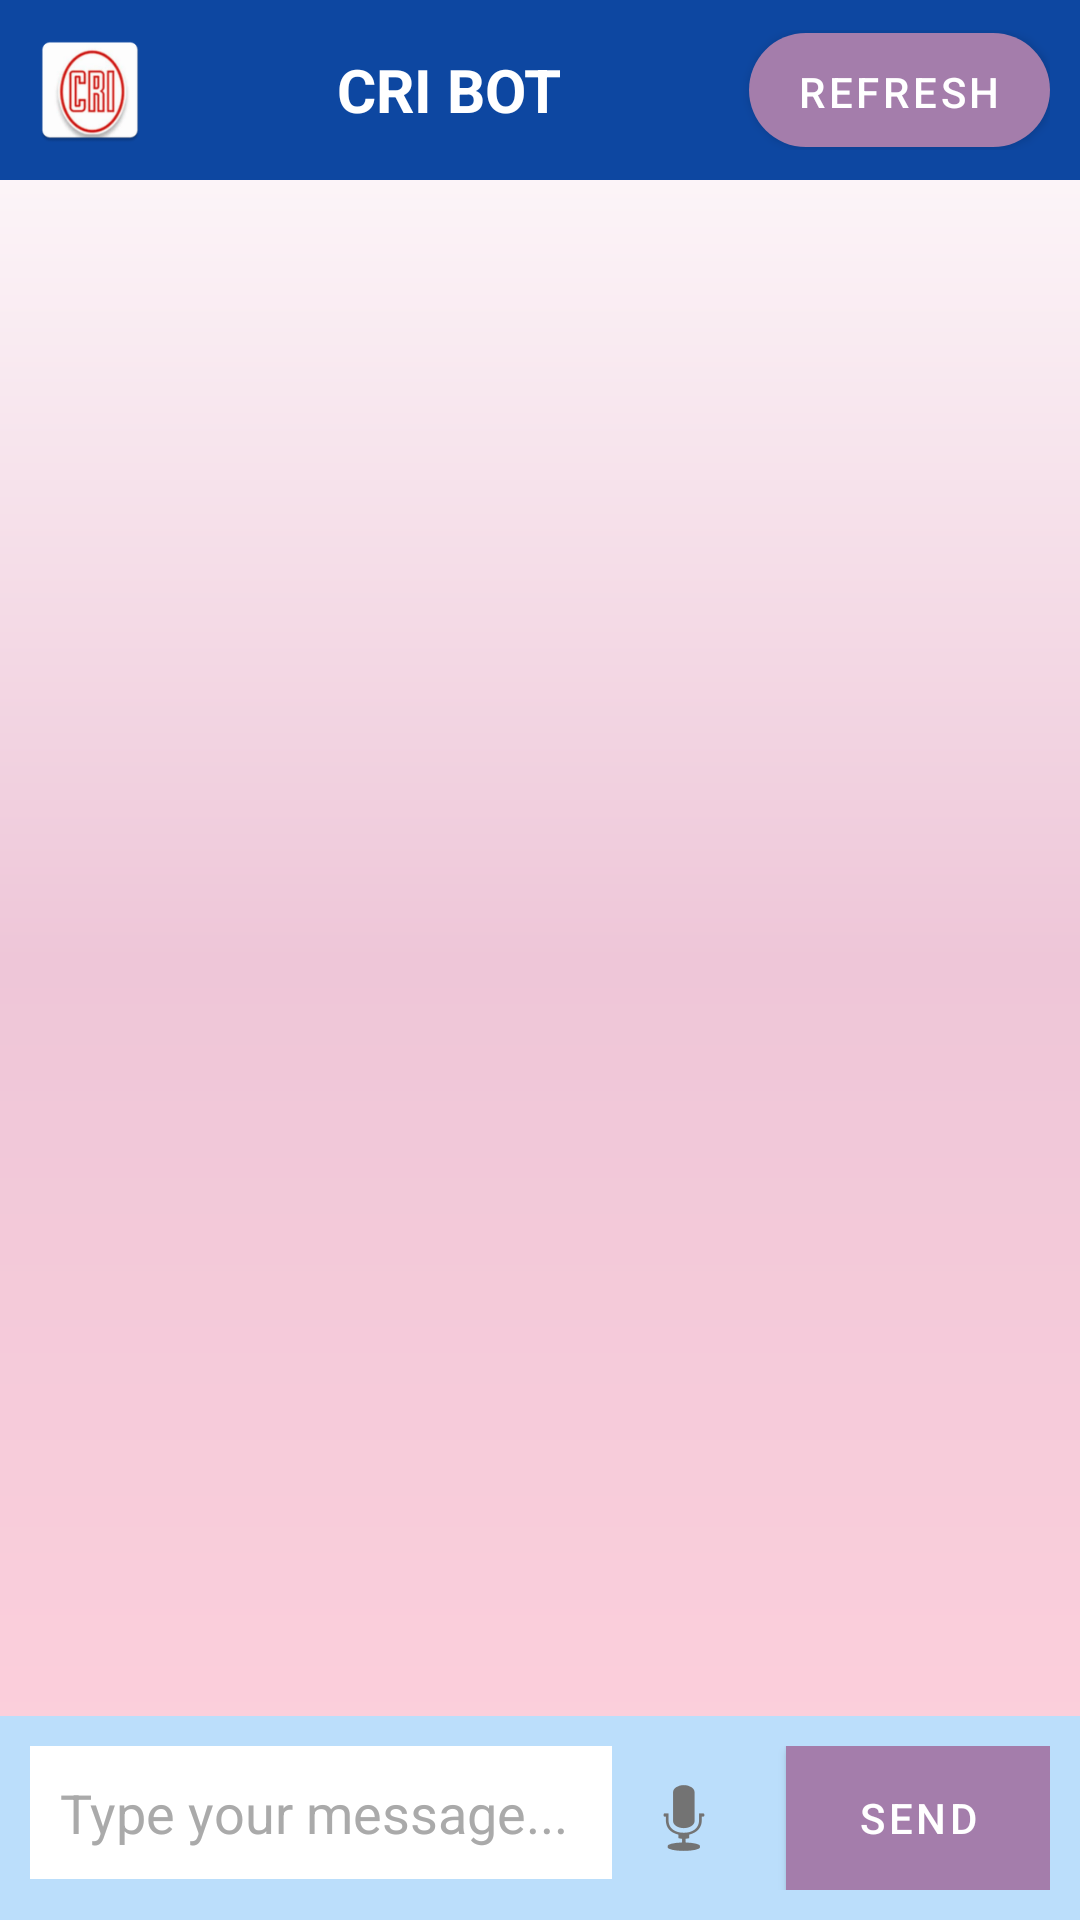

Where to tap for icons on this 1080px x 1920px app screen, as point (x, y):
Voice Input: point (684, 1818)
